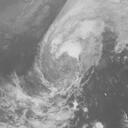cyclone: (35, 23, 102, 95)
